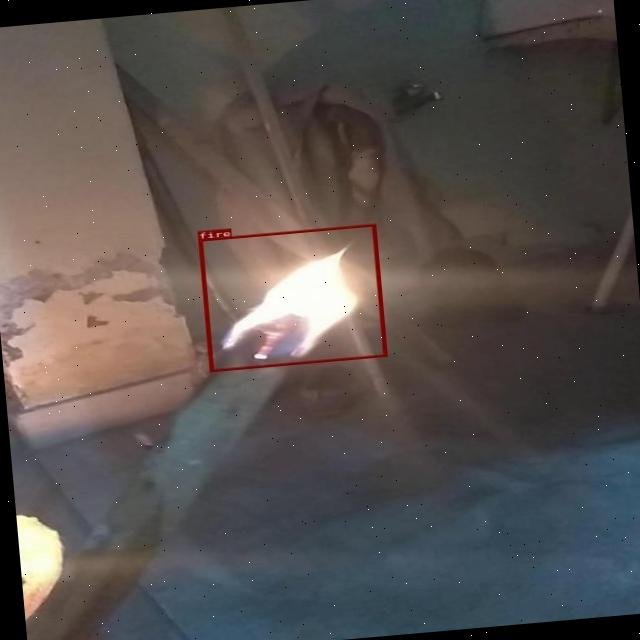fire: (198, 223, 386, 371)
